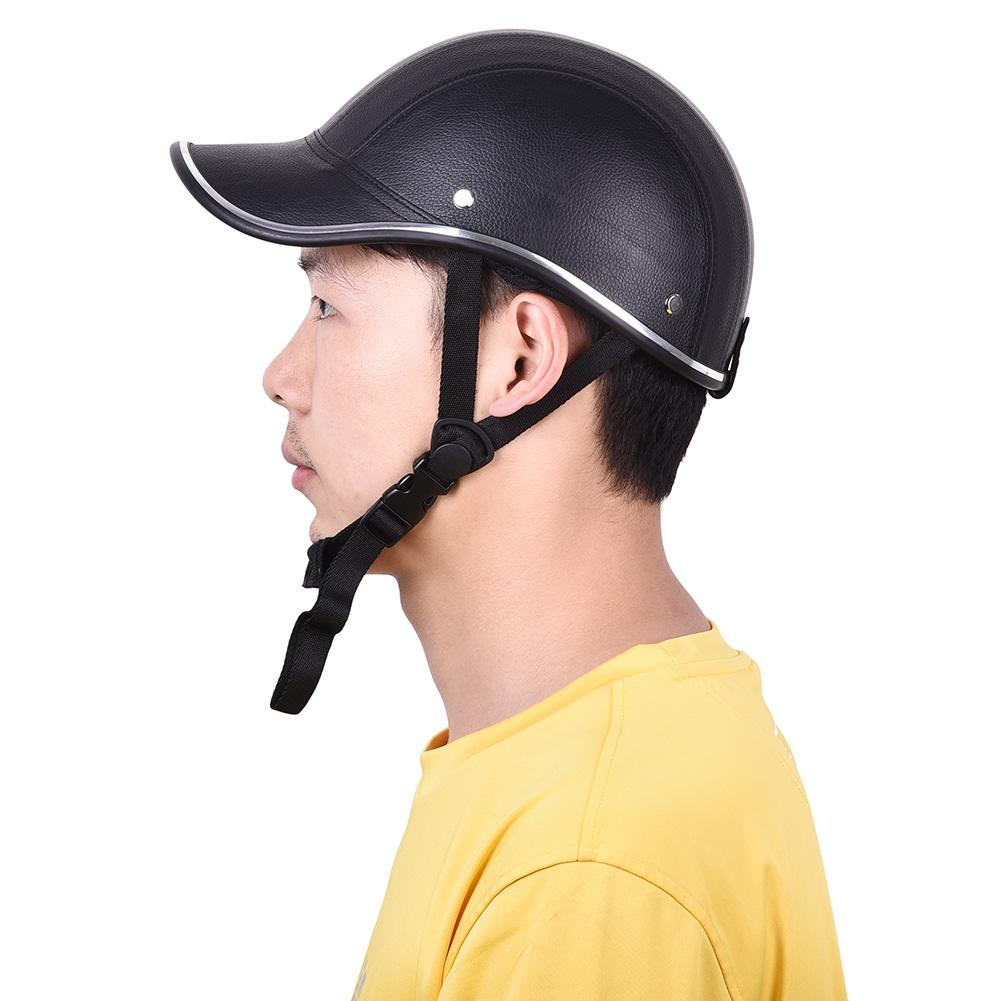helmet: (128, 19, 814, 416)
